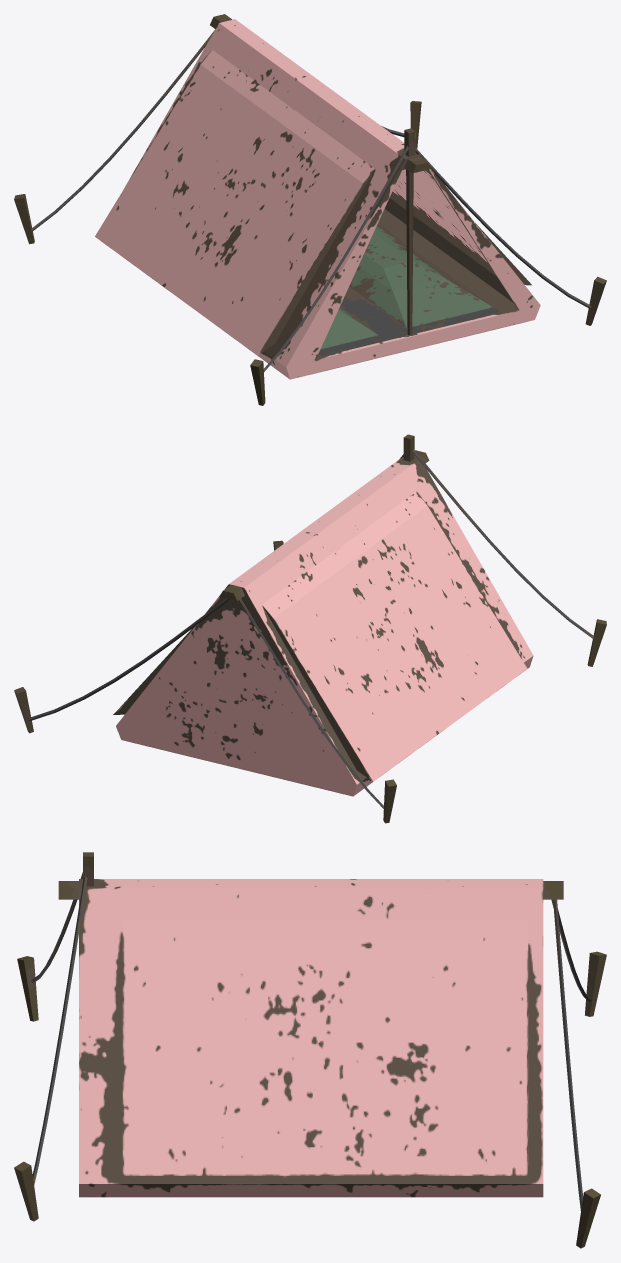
Rendered from PT_tent.FBX.
3 views of the same model, one above another, from view 1: azimuth 30°, elevation 25°; view 2: azimuth 150°, elevation 25°; view 3: azimuth 270°, elevation 25° (orthographic). The views are drawn at different scales.
Visible parts, largest first — view 1: Box139; view 2: Box139; view 3: Box139.
Part boxes in pixels (left/top/right/bottom): Box139: left=14, top=14, right=606, bottom=405; Box139: left=14, top=434, right=606, bottom=823; Box139: left=14, top=852, right=606, bottom=1248.
Size of the model in its own units: 36.14 by 18.42 by 36.68.
Materials: 1 (1 with a texture image).
